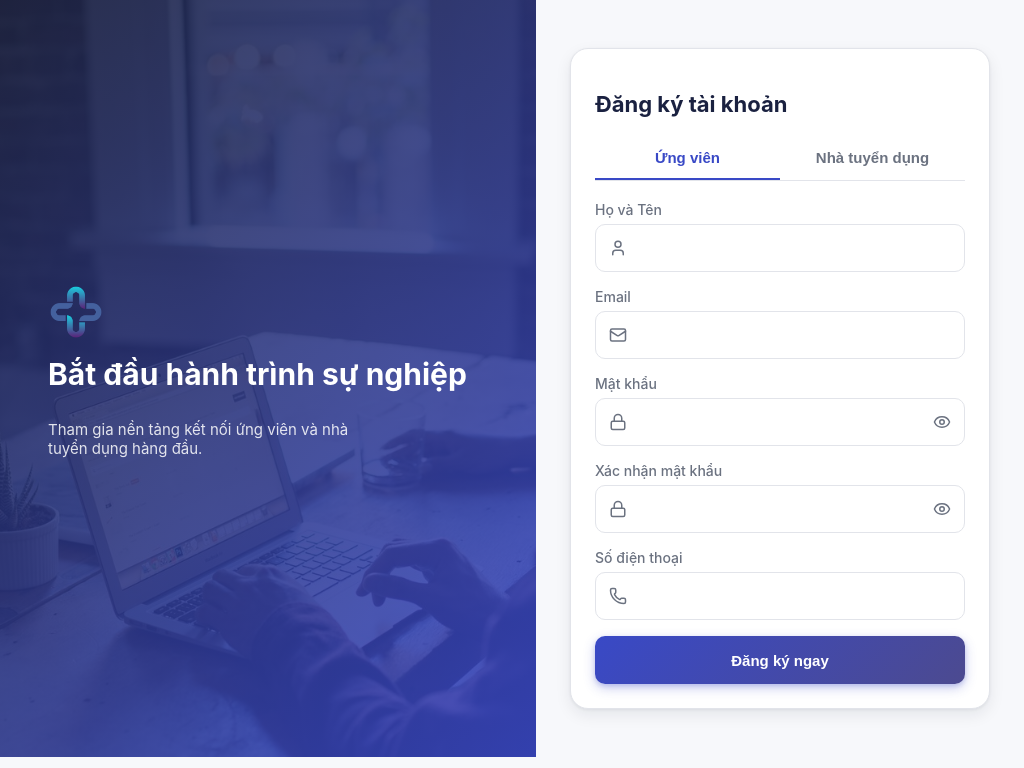
Register - CandidateForm (QD01) › shows the success message returned by the API on successful registration
In the field below "Họ và Tên": (780, 248) [595,224,965,272], type "Nguyen Van C"
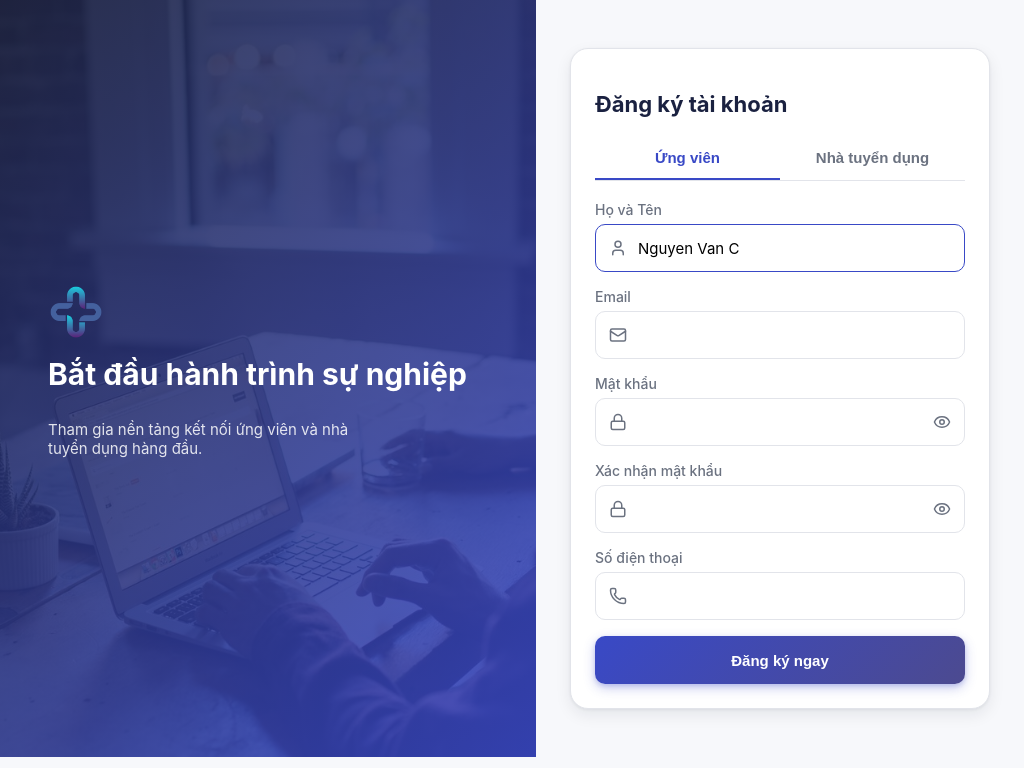
In the field below "Email": (780, 335) [595,311,965,359], type "moi@test.local"
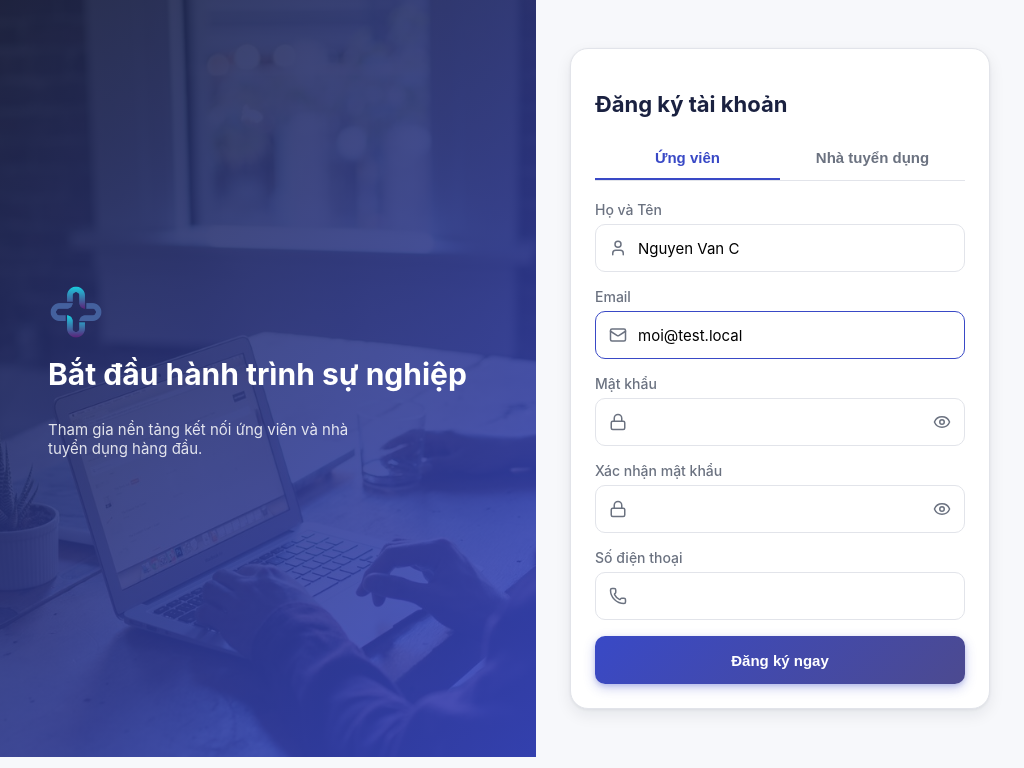
In the 1st password field: (780, 422) [595,398,965,446], type "Test1234"
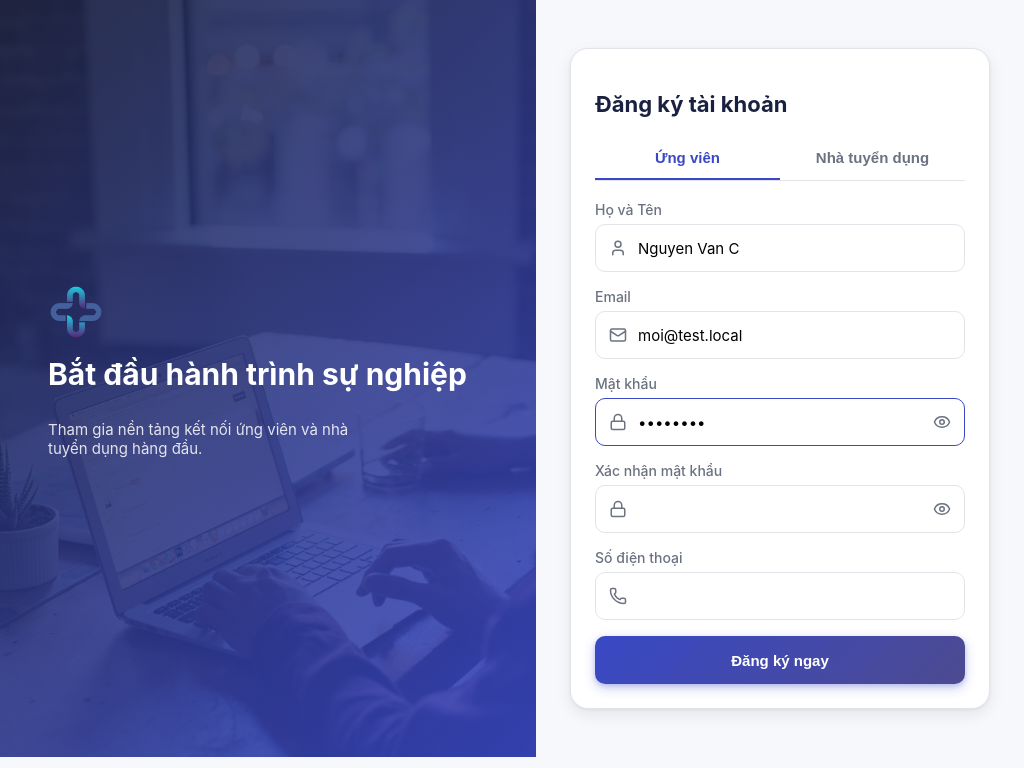
In the password field below "Xác nhận mật khẩu": (780, 509) [595,485,965,533], type "Test1234"
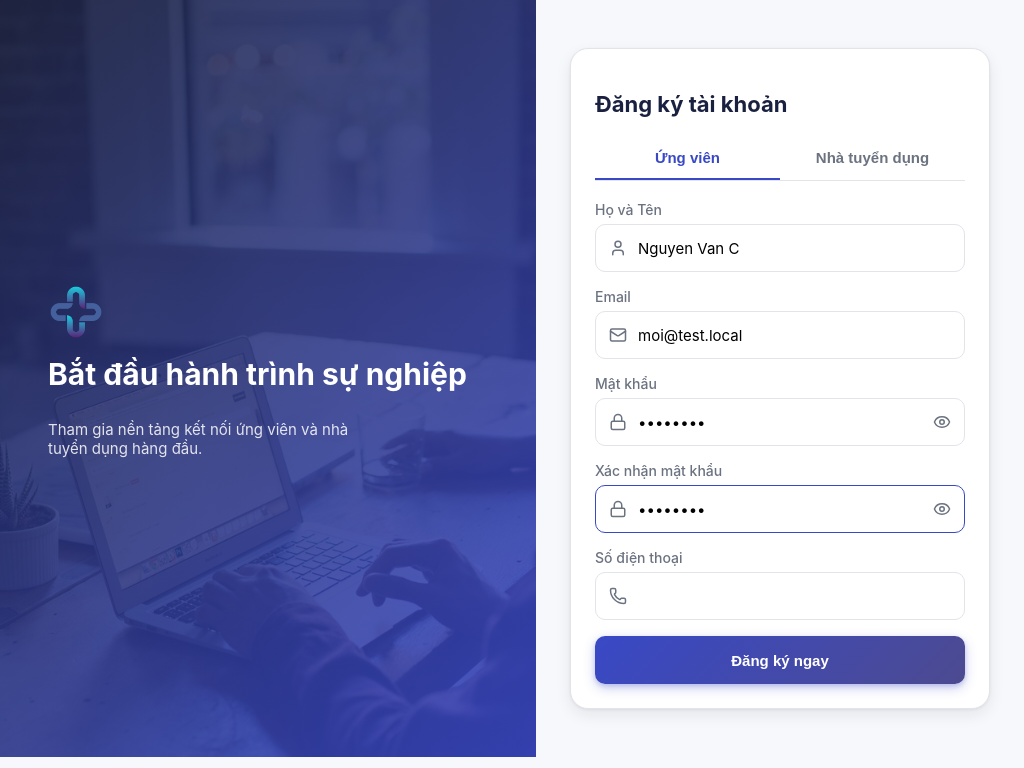
Click the button "Đăng ký ngay": (780, 660) [595,636,965,684]
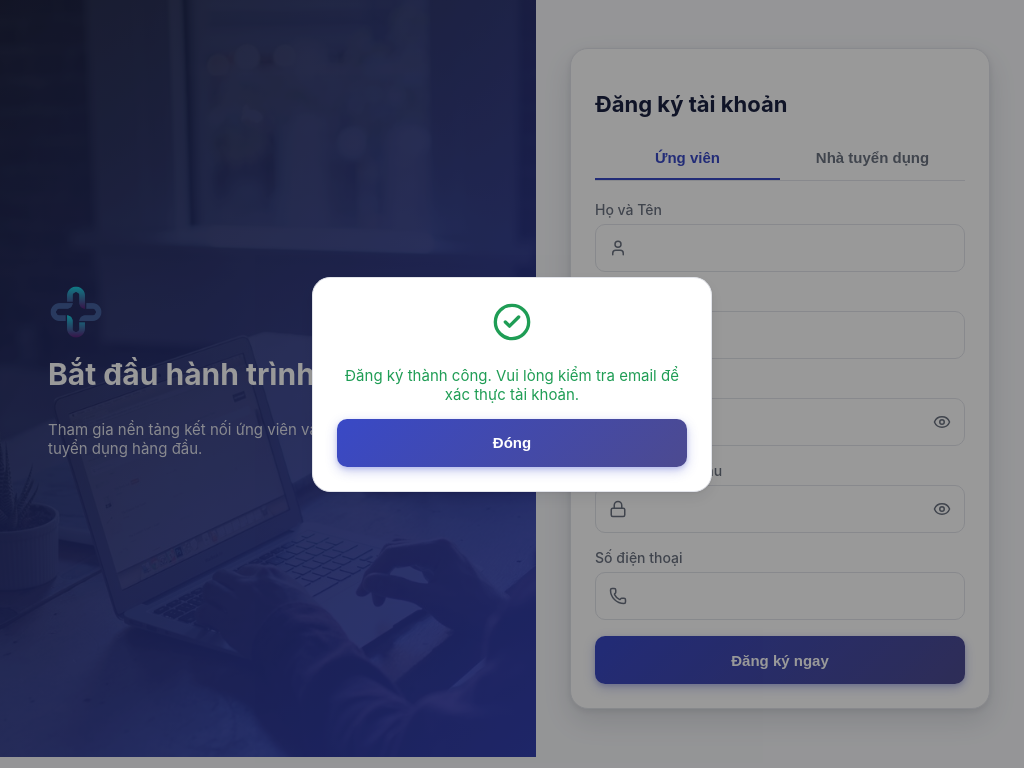
Check: the text "Đăng ký thành công. Vui lòng kiểm tra email để xác thực tài khoản." is shown, box [337,366,687,404]
